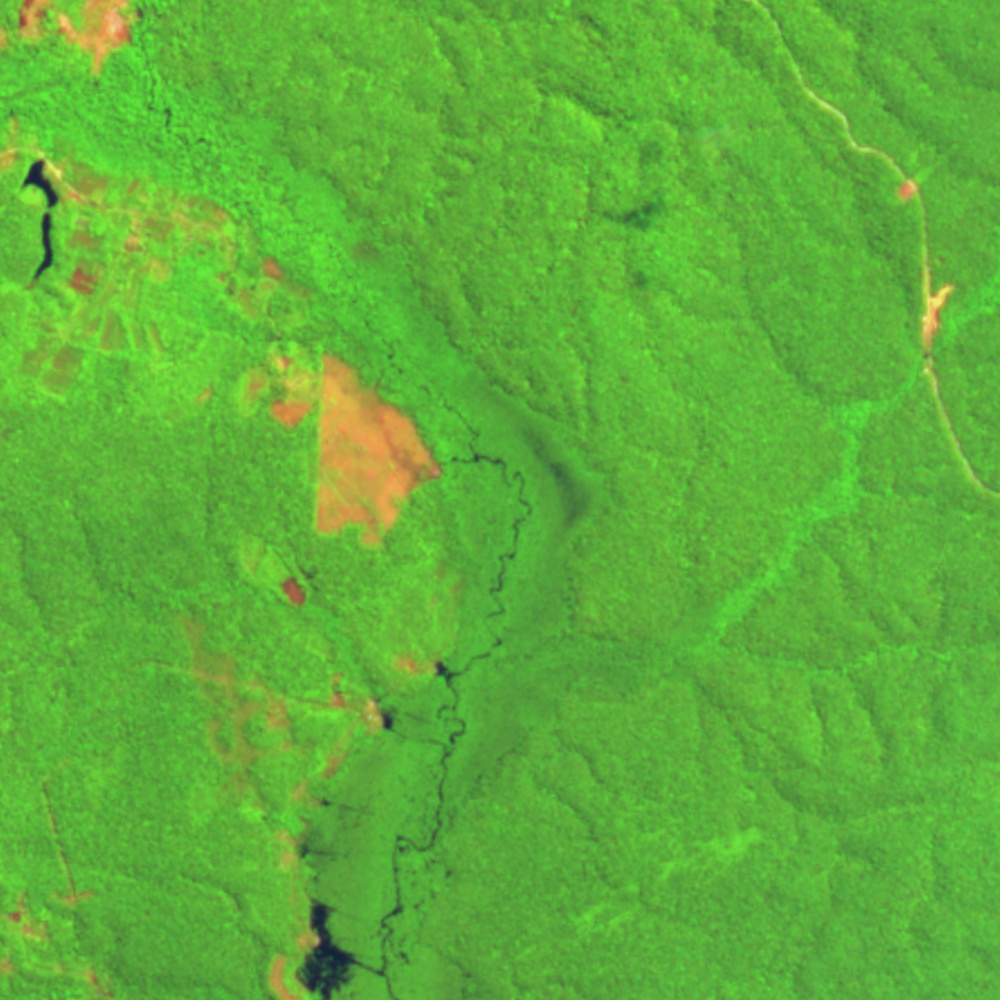legal: (311, 345, 445, 549), (63, 160, 242, 302), (184, 614, 300, 803), (17, 302, 165, 396), (1, 1, 141, 80), (269, 890, 366, 1000), (41, 777, 95, 909), (319, 697, 399, 785), (235, 352, 318, 431), (218, 256, 312, 323), (230, 538, 311, 611), (20, 155, 60, 290), (260, 819, 334, 873), (917, 281, 960, 364), (1, 896, 63, 938), (388, 653, 457, 684), (895, 160, 942, 201), (76, 958, 121, 1000)
